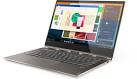laptop: (4, 0, 126, 72)
